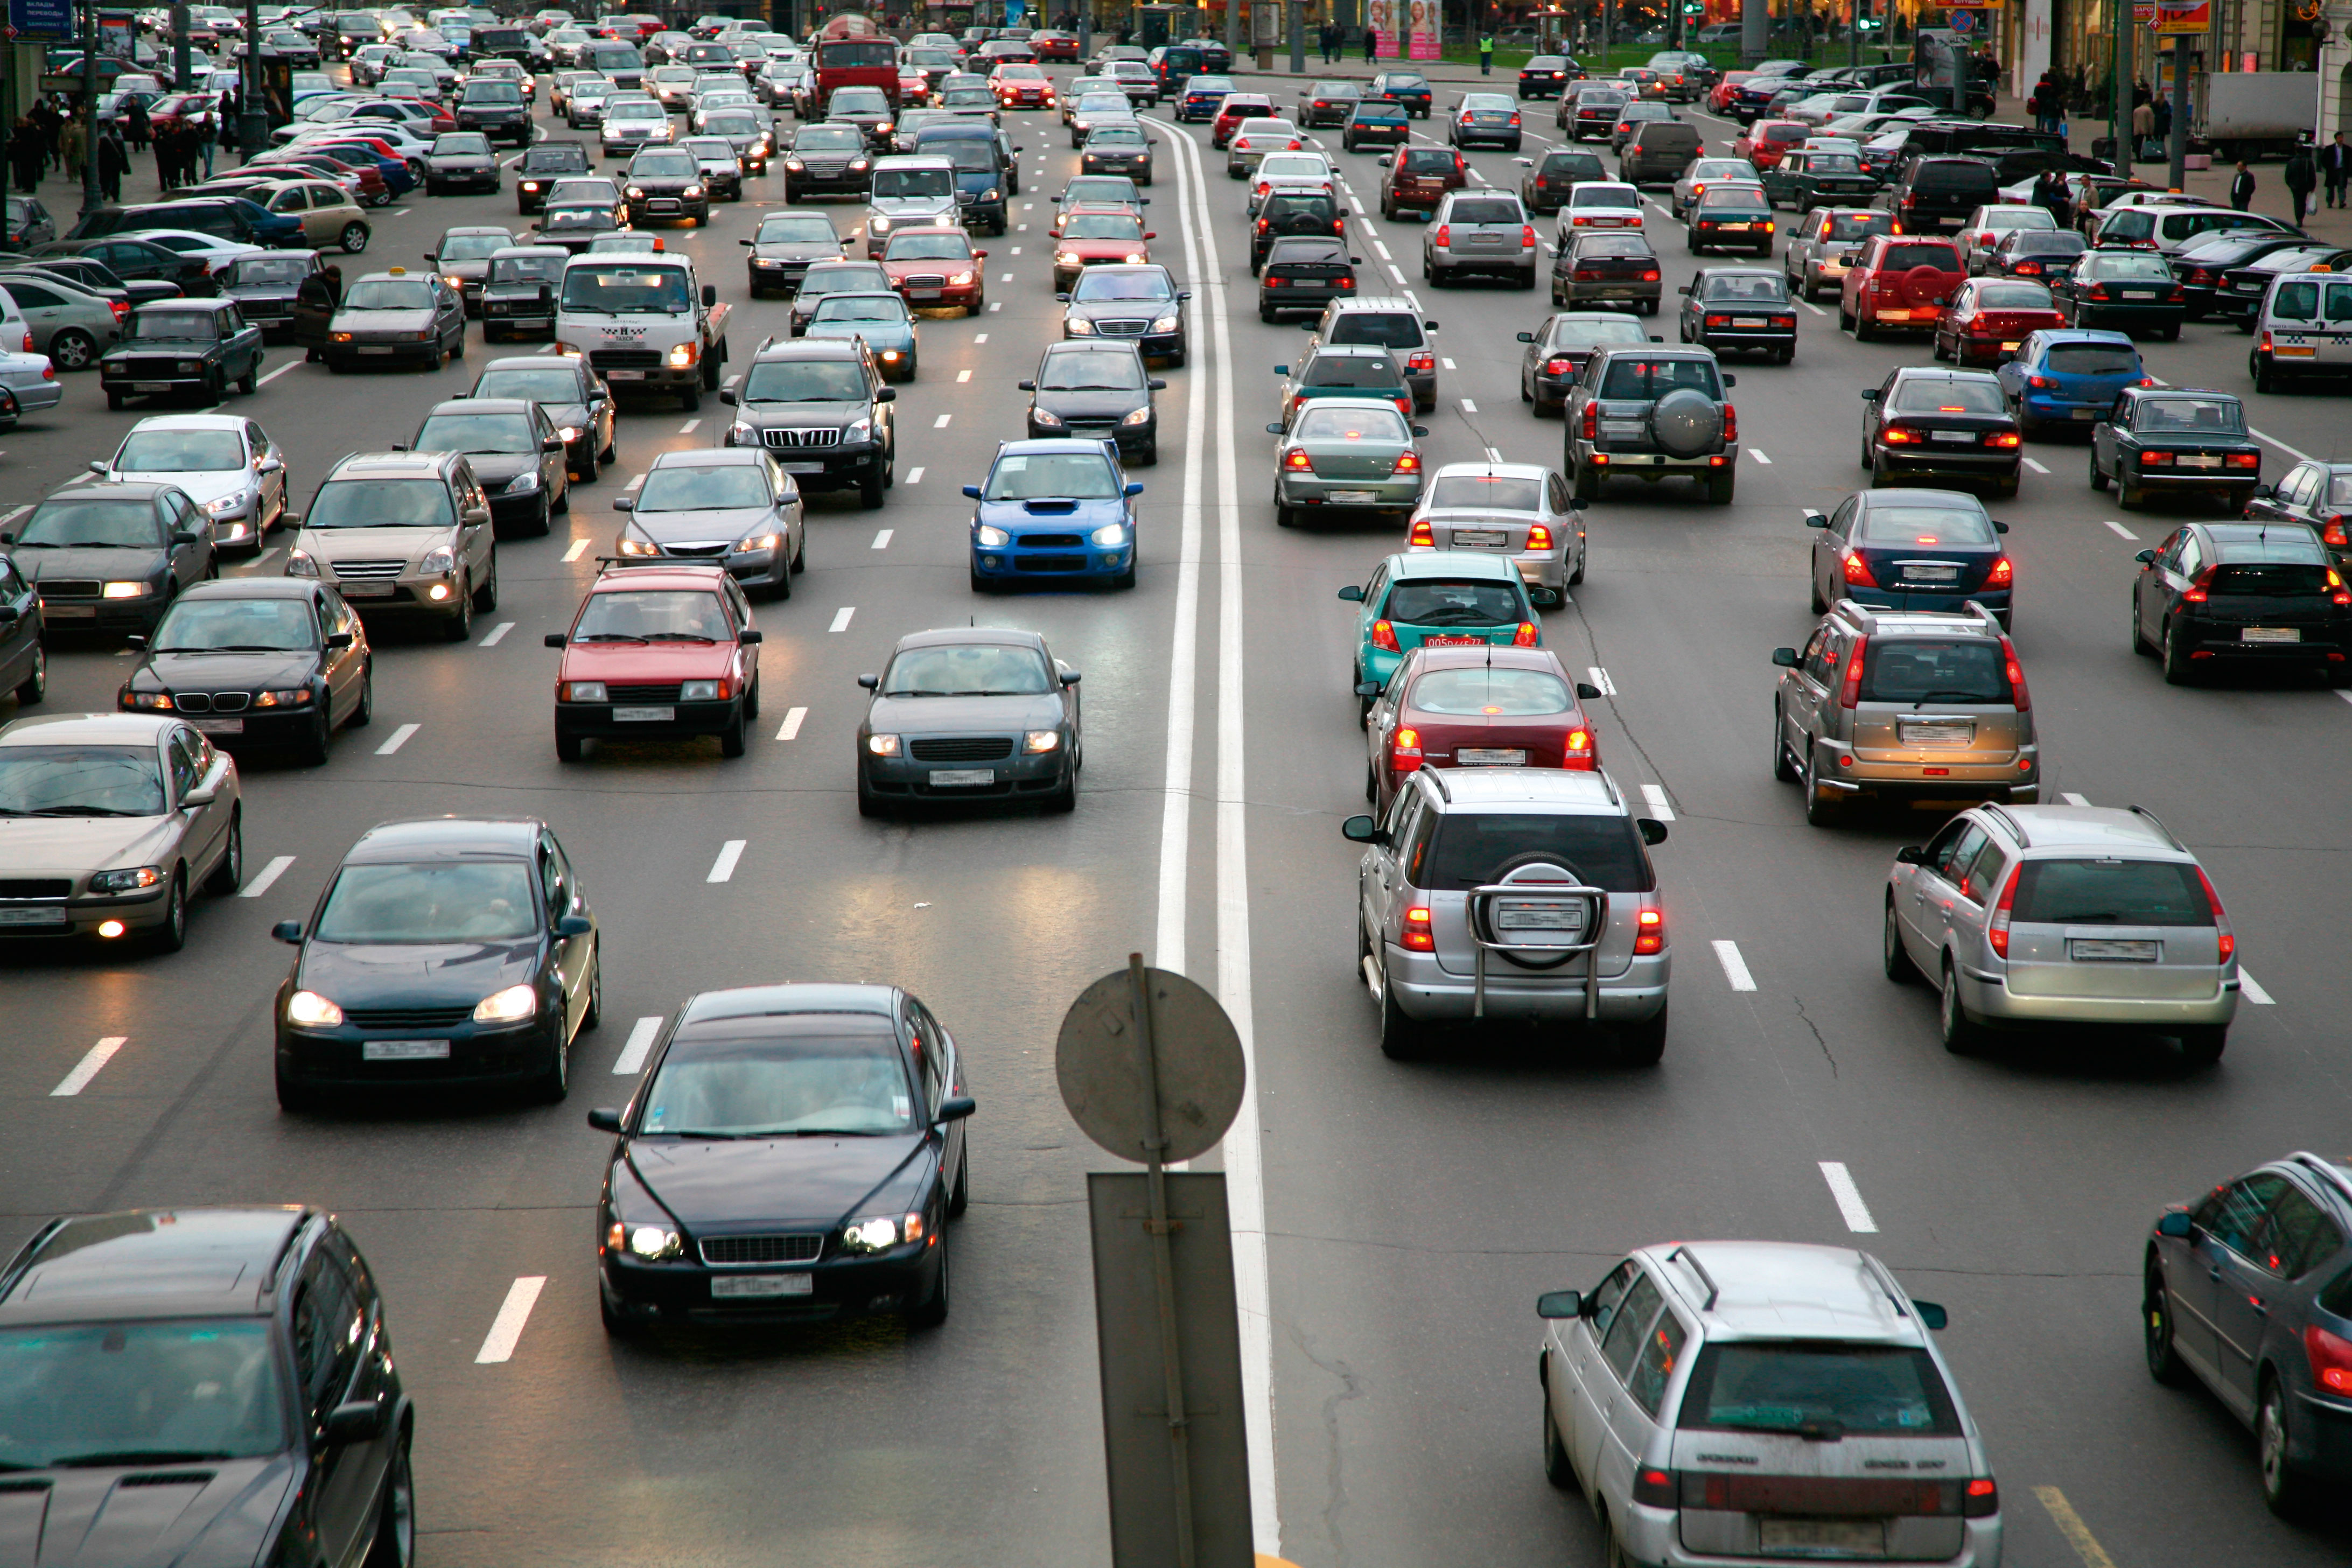car: (1533, 1223, 2016, 1568), (0, 1204, 420, 1564), (591, 976, 975, 1361), (1878, 789, 2247, 1081), (1340, 763, 1671, 1081), (273, 807, 598, 1113), (1764, 600, 2042, 843), (0, 710, 248, 964), (114, 563, 383, 768), (852, 614, 1085, 833), (549, 548, 761, 766), (280, 444, 504, 649), (1554, 332, 1743, 516), (961, 436, 1141, 607), (1858, 353, 2033, 506), (2086, 380, 2264, 520), (100, 292, 268, 413), (325, 259, 472, 369)
